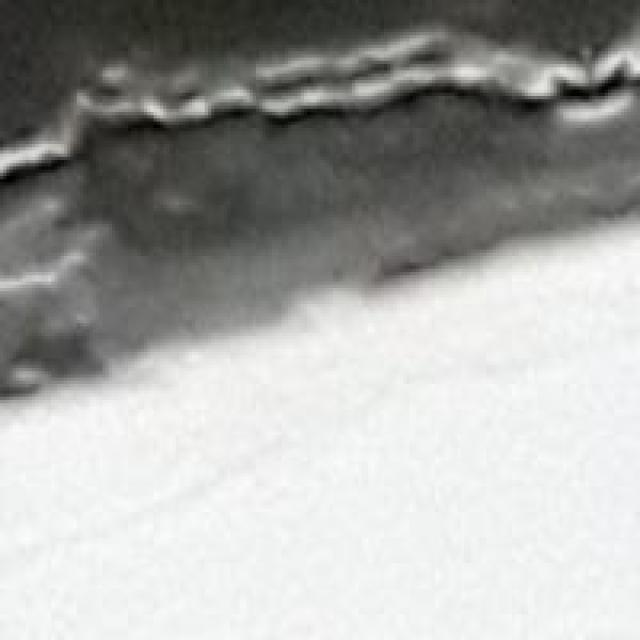crack: (3, 13, 640, 269)
